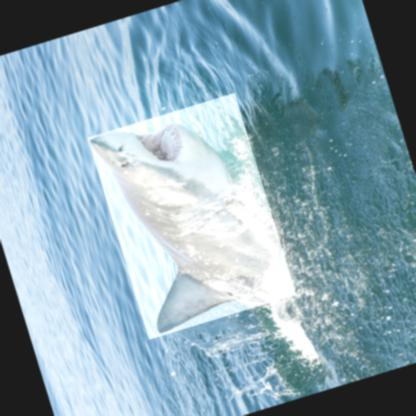white-shark: (87, 91, 297, 339)
